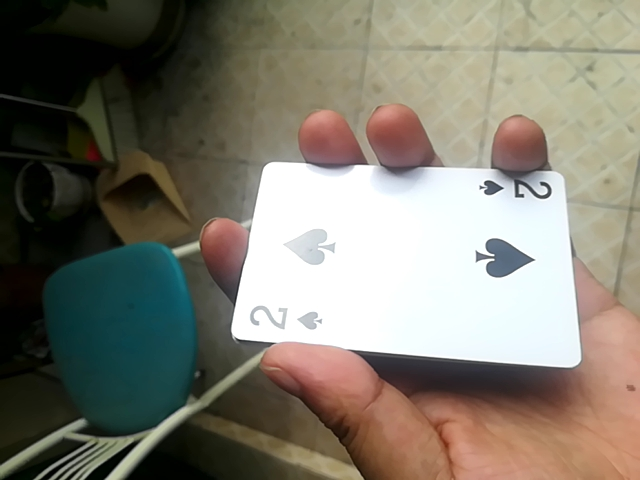ht 2: (230, 159, 577, 362)
